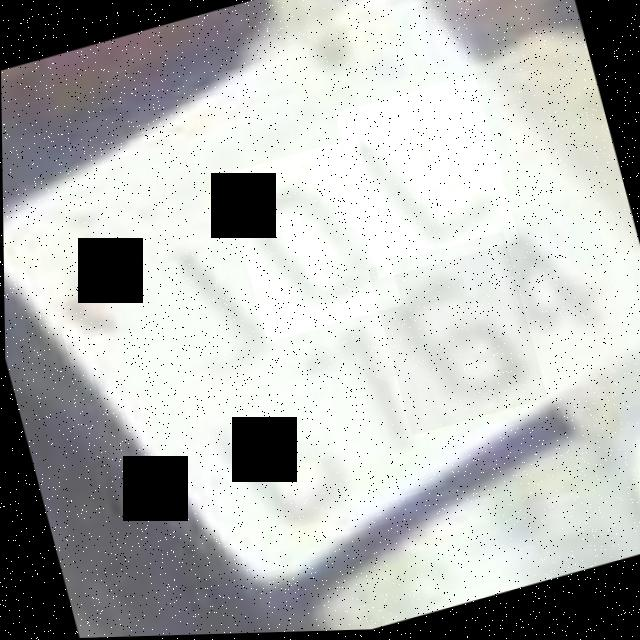4: (458, 194, 630, 393)
6: (175, 334, 385, 568), (367, 232, 547, 439)
J: (334, 75, 518, 282), (122, 202, 297, 402)
O: (221, 137, 402, 345)
